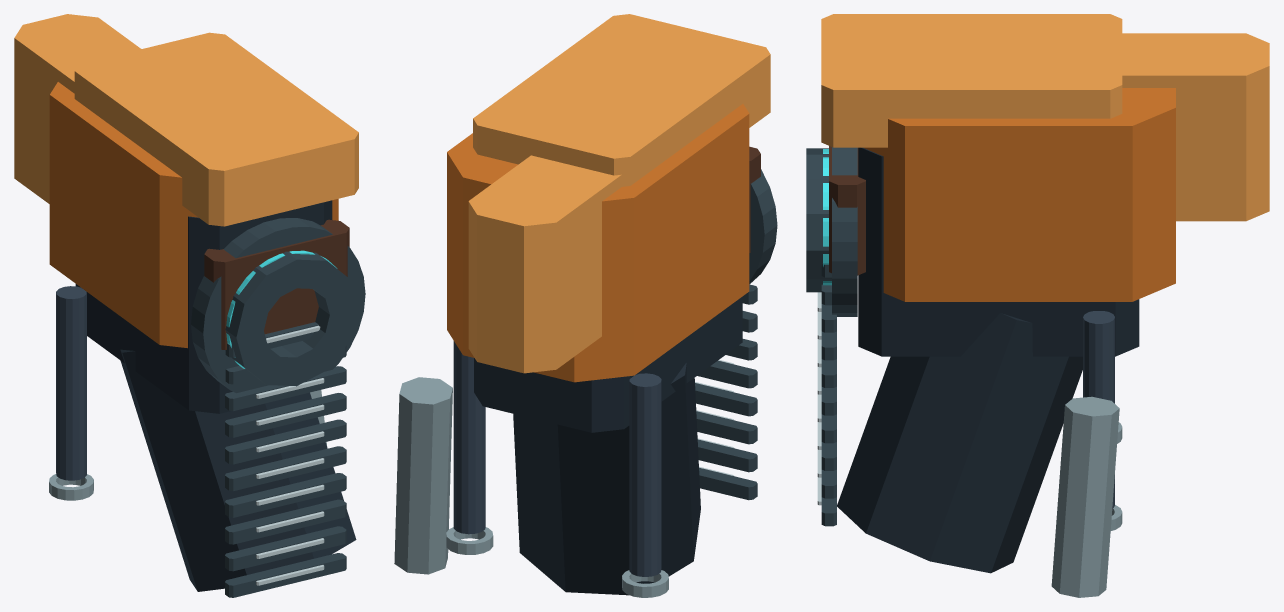
The model's file is enemy_runner_4k_upper_arm_r.obj.
The picture shows the model from 3 angles, left to right: view 1: azimuth 30°, elevation 25°; view 2: azimuth 150°, elevation 25°; view 3: azimuth 270°, elevation 25°; orthographic projection. The views are drawn at different scales.
Bounding box in the file's own units: 0.4759 × 0.8144 × 0.6925.
